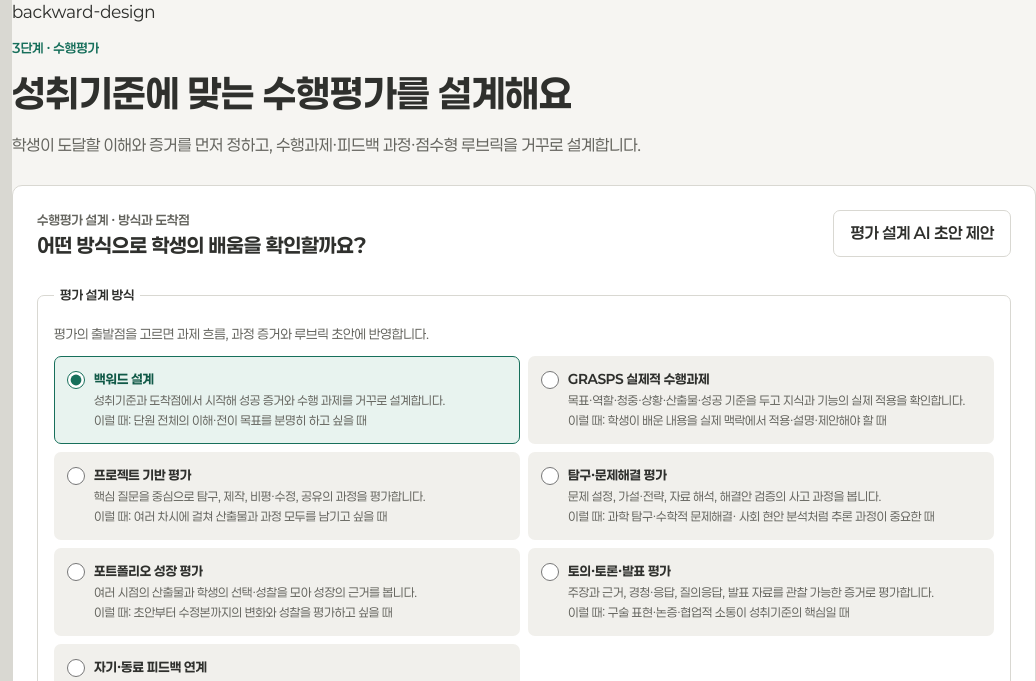
교사가 평가 설계 방식을 바꾸면 다음 생성 요청에 보존한다
This screenshot has width=1036, height=681.
Click the radio button labelled "포트폴리오 성장 평가".
click(76, 572)  # box top-left (67, 563), bottom-right (85, 581)
(page scrolled)
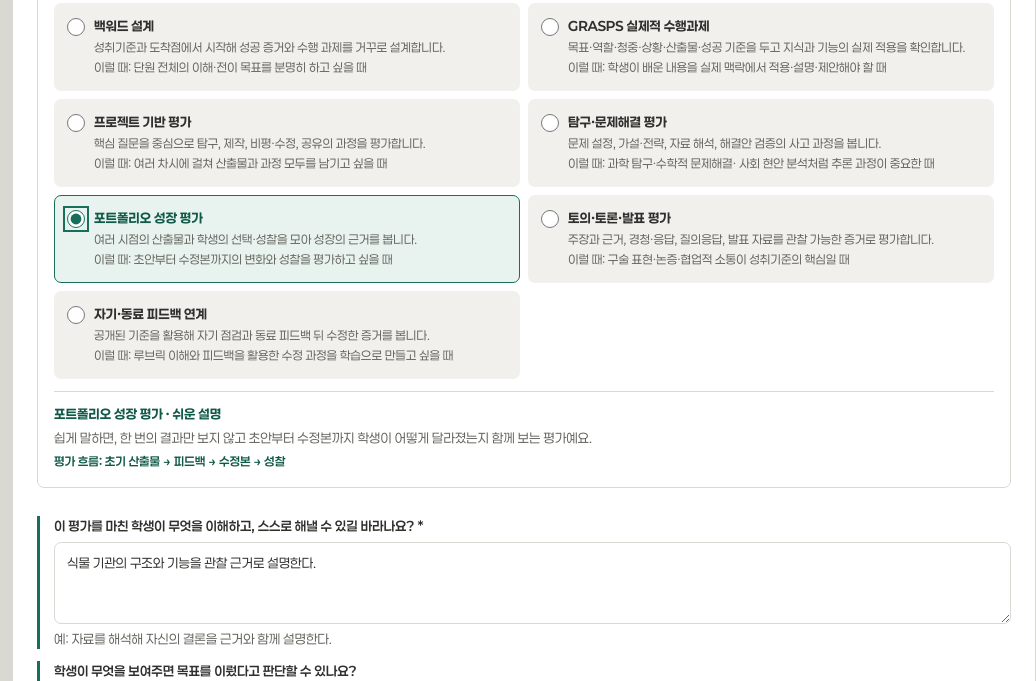
Check: the message shows "쉽게 말하면, 한 번의 결과만 보지 않고 초안부터 수정본까지 학생이 어떻게 달라졌는지 함께 보는 평가예요.", box top-left (54, 391), bottom-right (994, 471)
Check: the message shows "초기 산출물 → 피드백 → 수정본 → 성찰", box top-left (54, 391), bottom-right (994, 471)
